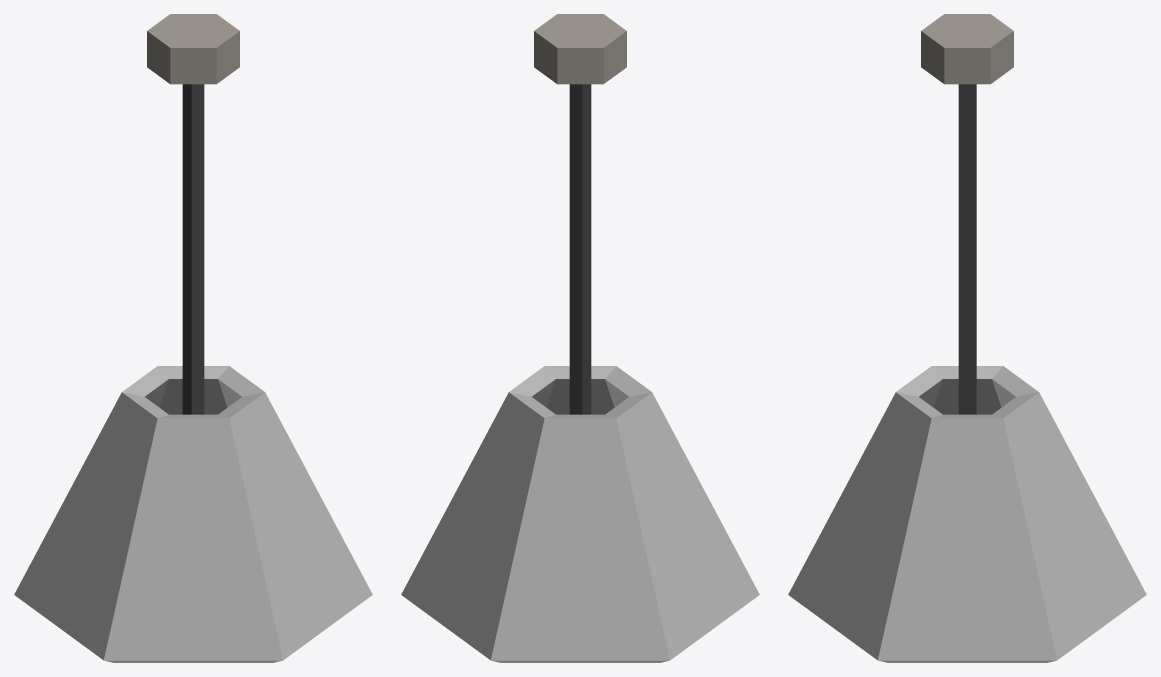
File: SM_Prop_CeilingLight_01.fbx
3 views of the same model, side by side, from view 1: azimuth 30°, elevation 25°; view 2: azimuth 150°, elevation 25°; view 3: azimuth 270°, elevation 25° (orthographic).
Parts seen in each view (by area): view 1: SM_Prop_CeilingLight_01; view 2: SM_Prop_CeilingLight_01; view 3: SM_Prop_CeilingLight_01.
Part boxes in pixels (x1,y1,x2,y2): SM_Prop_CeilingLight_01: (14, 14, 372, 662); SM_Prop_CeilingLight_01: (401, 14, 759, 662); SM_Prop_CeilingLight_01: (788, 14, 1146, 662).
Size of the model in its own units: 28.38 by 57.79 by 32.77.
